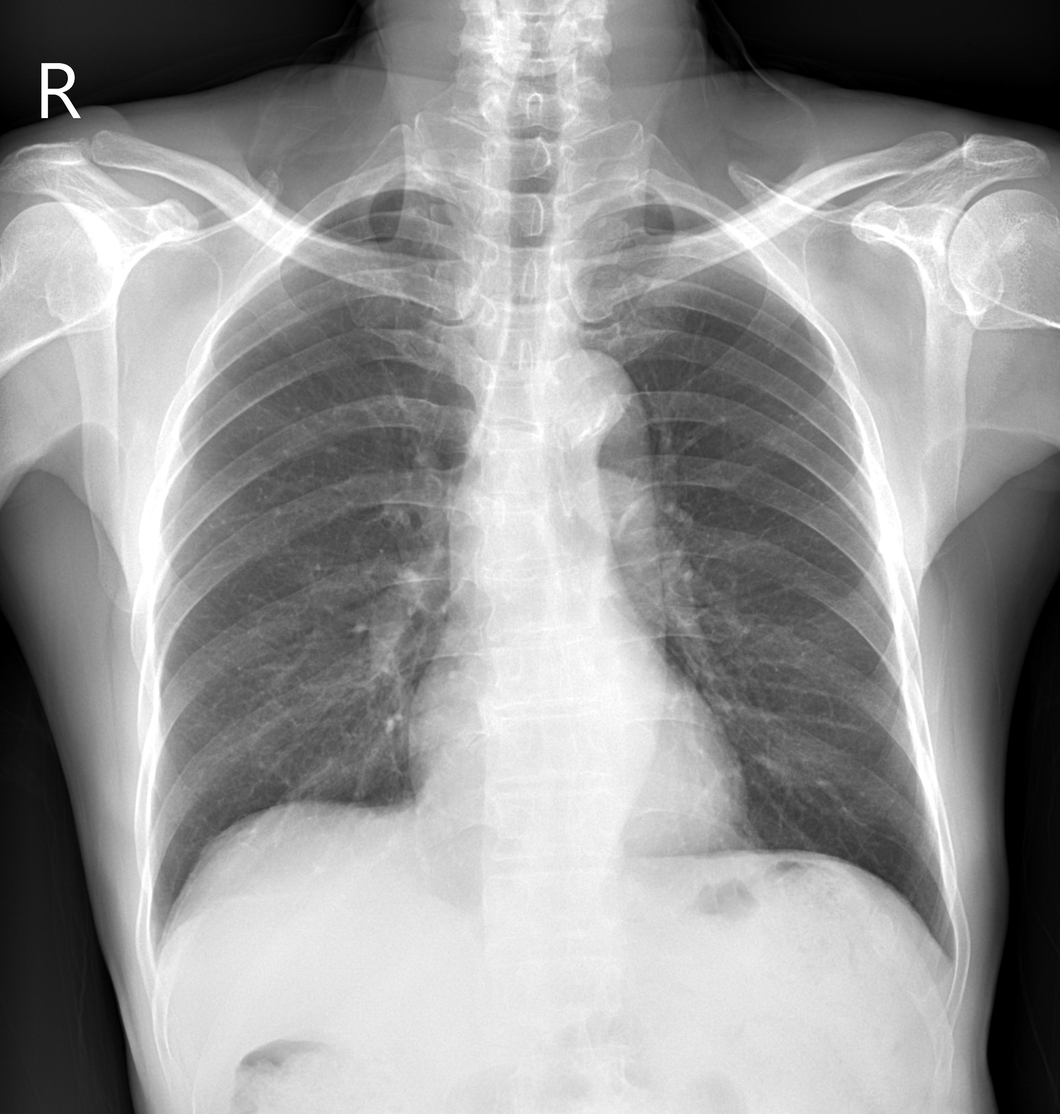Aortic enlargement: (528, 346, 654, 461)
